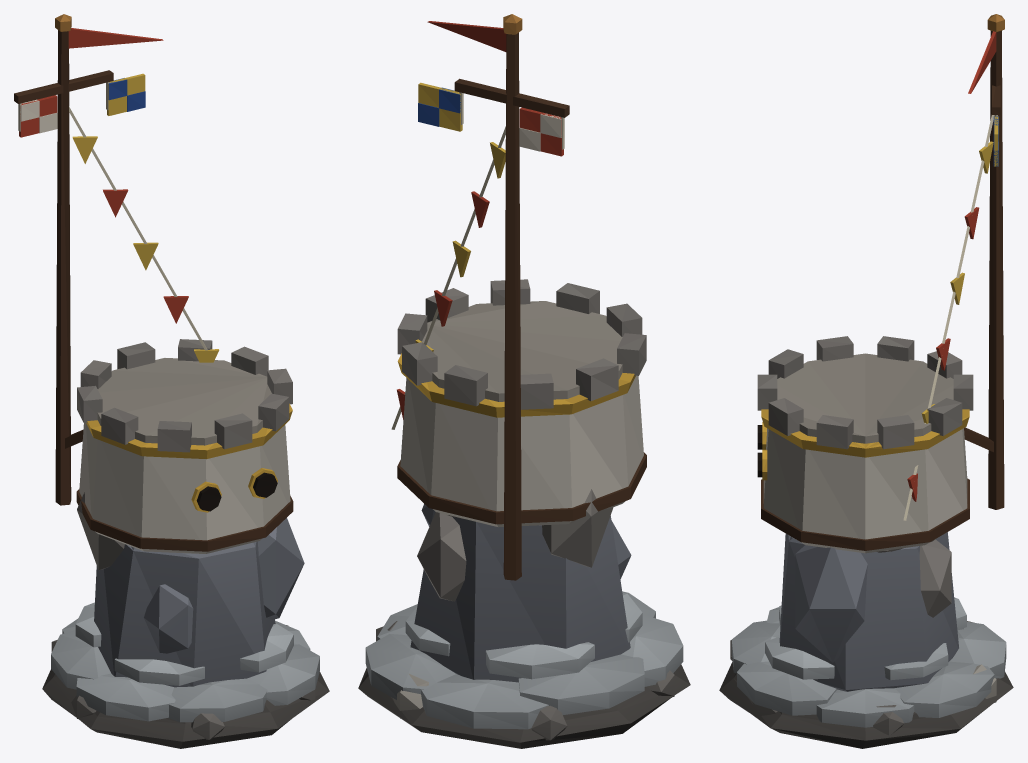
The model's file is owls_glare.glb.
3 renders of one model, left to right at view 1: azimuth 30°, elevation 25°; view 2: azimuth 150°, elevation 25°; view 3: azimuth 270°, elevation 25°, orthographic. The views are drawn at different scales.
Visible parts, largest first — view 1: owls_glare; view 2: owls_glare; view 3: owls_glare.
Boxes of the visible parts, x1,y1,x2,y2 form: owls_glare: [14, 14, 329, 748]; owls_glare: [358, 14, 690, 748]; owls_glare: [719, 14, 1013, 748].
Bounding box in the file's own units: 0.8711 × 2.19 × 0.9001.
